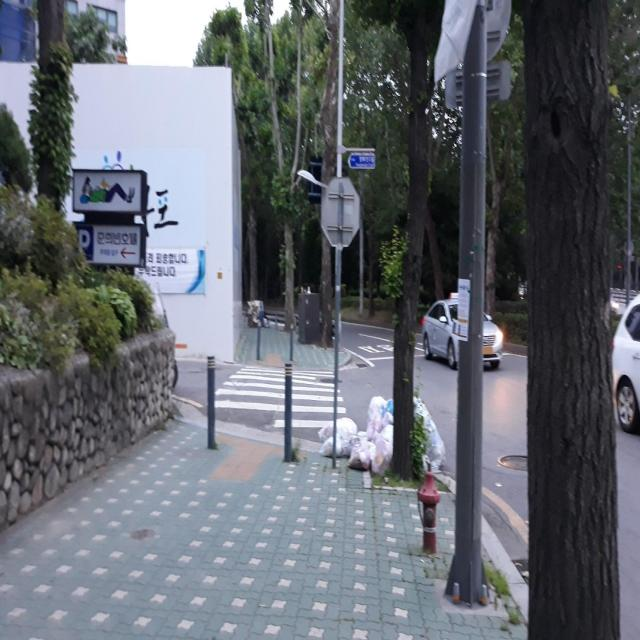횡단보도: (214, 364, 347, 430)
